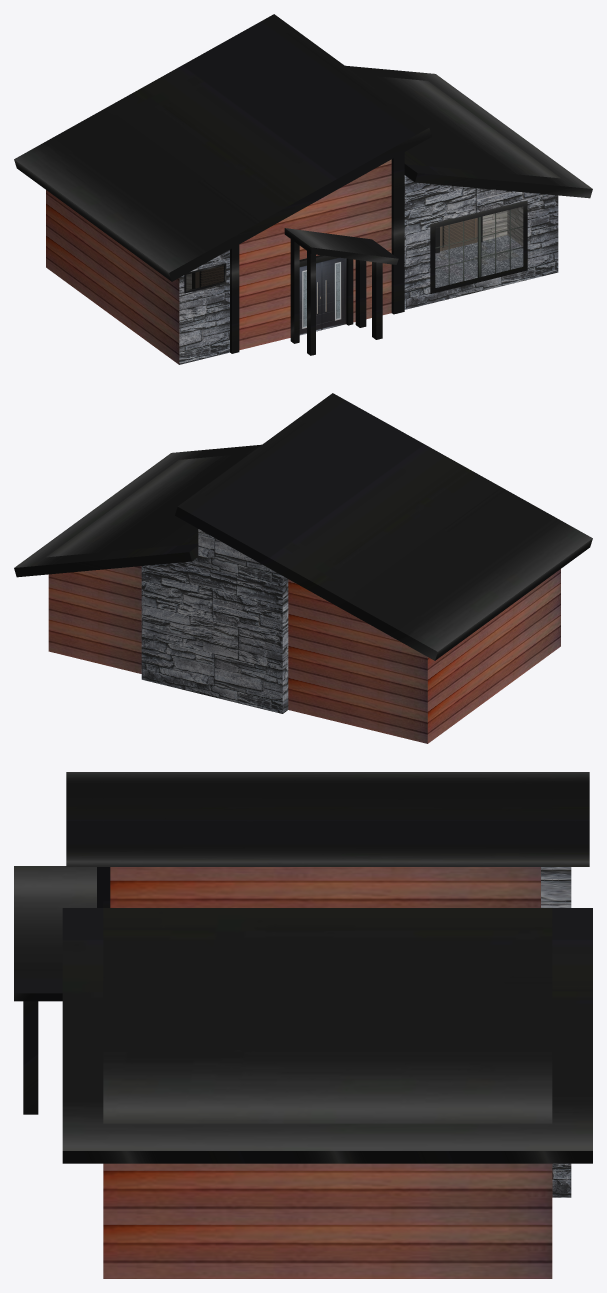
File: house.glb
3 renders of one model, top to bottom at view 1: azimuth 30°, elevation 25°; view 2: azimuth 150°, elevation 25°; view 3: azimuth 270°, elevation 25°, orthographic. The views are drawn at different scales.
Visible parts, largest first — view 1: Material2 (×6), Material3 (×3); view 2: Material2 (×2), Material3; view 3: Material2 (×2), Material3.
Part boxes in pixels (<box>): Material2 (×6): <box>14,14,592,364</box>; Material3 (×3): <box>179,175,558,364</box>; Material2 (×2): <box>14,393,592,743</box>; Material3: <box>141,529,288,713</box>; Material2 (×2): <box>14,772,592,1278</box>; Material3: <box>541,867,571,1197</box>.
Bounding box in the file's own units: 859 × 363 × 604.
13 materials, 10 textured.
